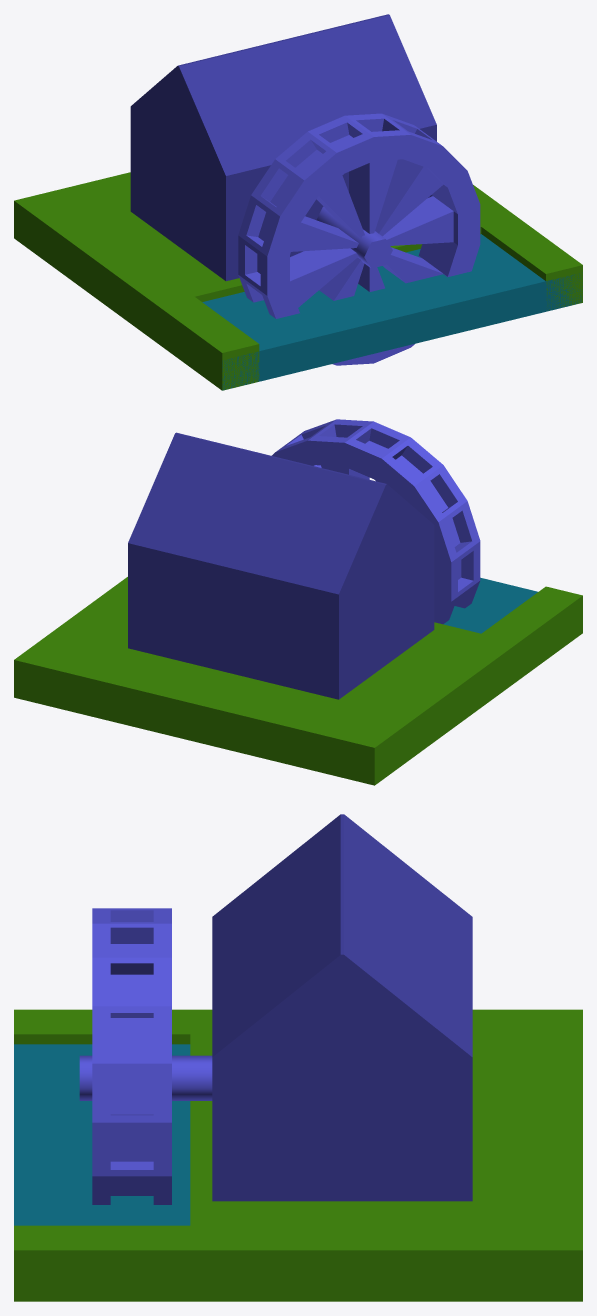
Rendered from Grinder1.obj.
3 renders of one model, top to bottom at view 1: azimuth 30°, elevation 25°; view 2: azimuth 150°, elevation 25°; view 3: azimuth 270°, elevation 25°, orthographic. The views are drawn at different scales.
Visible parts, largest first — view 1: Box921, Mill001, Tilebase129, Tilebase130, Cylinder138; view 2: Box921, Tilebase129, Mill001, Tilebase130; view 3: Box921, Tilebase129, Mill001, Tilebase130, Cylinder138.
Part boxes in pixels (x1,y1,x2,y2): Box921: (130,14,436,281); Mill001: (238,113,480,365); Tilebase129: (14,172,582,390); Tilebase130: (202,234,582,390); Cylinder138: (316,206,392,268); Box921: (128,432,434,699); Tilebase129: (14,577,582,785); Mill001: (272,419,480,624); Tilebase130: (443,577,537,633); Box921: (212,814,472,1201); Tilebase129: (14,1009,582,1301); Mill001: (92,908,171,1204); Tilebase130: (14,1044,190,1225); Cylinder138: (79,1055,212,1100).
Size of the model in its own units: 10 by 6.78 by 10.
